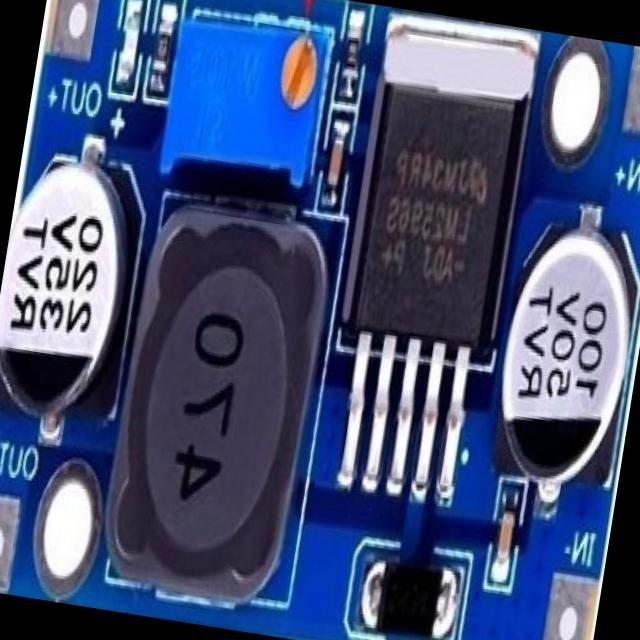IC: (333, 31, 539, 439)
LED: (115, 0, 148, 81)
capacitor: (483, 216, 640, 493), (0, 143, 138, 427), (493, 500, 518, 568), (326, 128, 346, 190)
diode: (364, 549, 455, 640)
potentiometer: (163, 9, 335, 198)
resistor: (147, 12, 175, 100), (338, 30, 363, 99)
